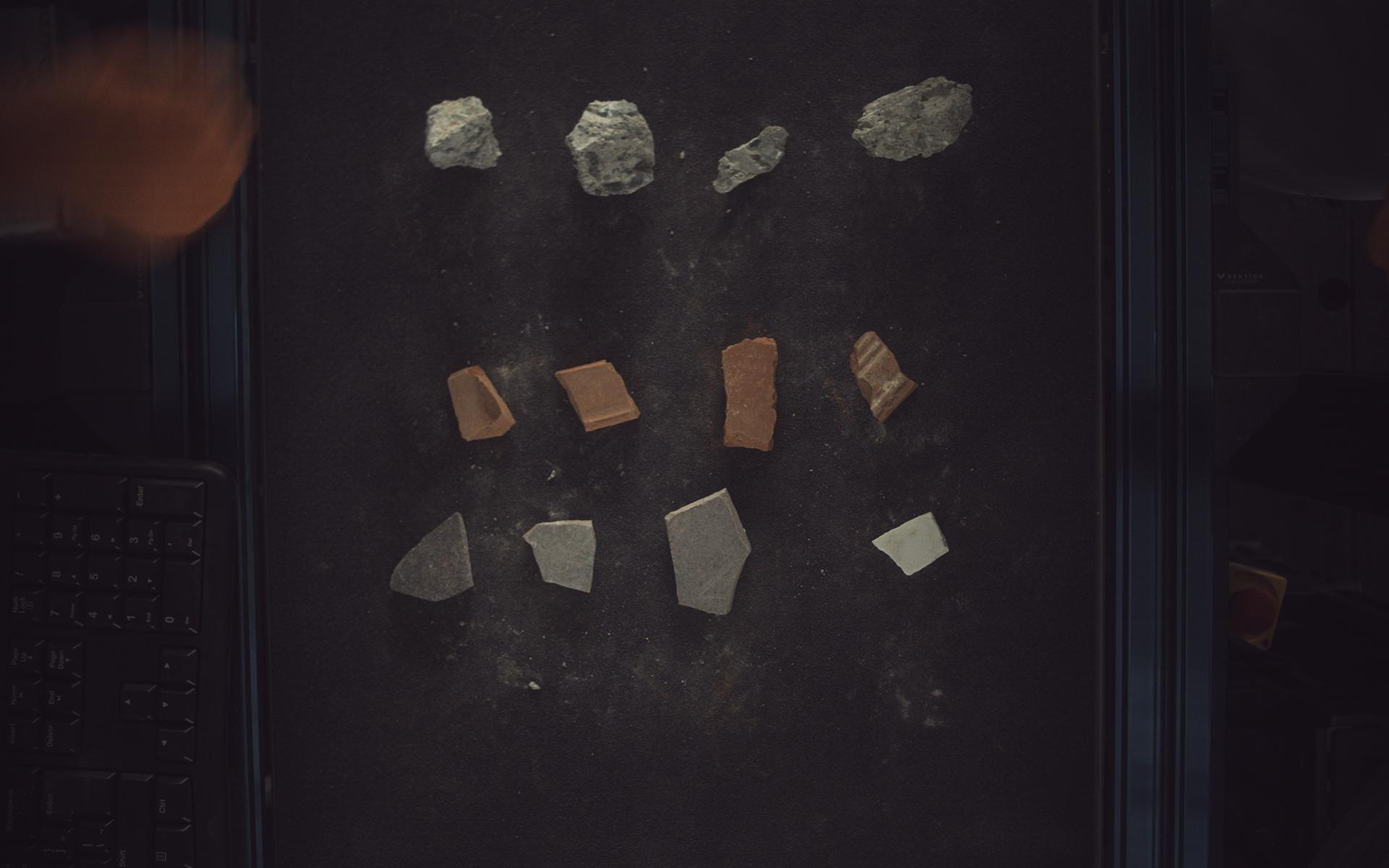brick: (723, 337, 779, 451), (851, 331, 919, 422), (557, 360, 641, 432), (448, 365, 516, 441)
concrete: (854, 75, 974, 160), (566, 99, 656, 195), (425, 95, 502, 168), (714, 124, 789, 192)
tile: (666, 488, 752, 616), (390, 513, 474, 602), (524, 522, 597, 593), (875, 512, 951, 576)
